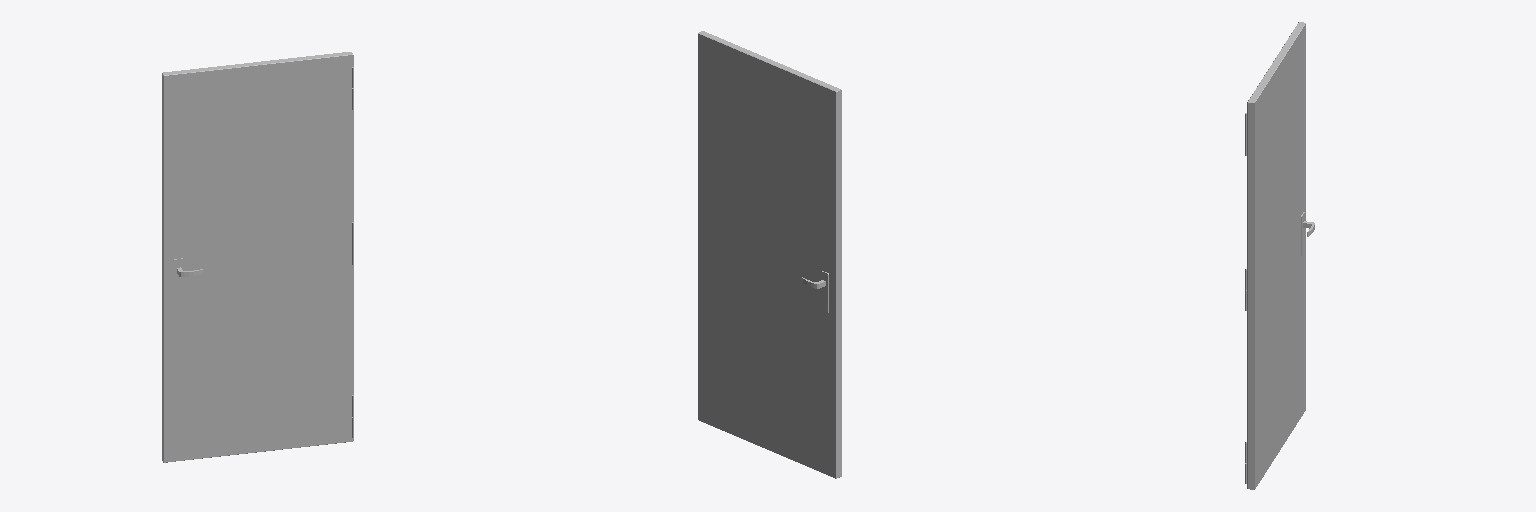
The model's file is door.obj.
3 renders of one model, left to right at view 1: azimuth 30°, elevation 25°; view 2: azimuth 150°, elevation 25°; view 3: azimuth 270°, elevation 25°, orthographic.
Visible parts, largest first — view 1: door_Hinged; view 2: door_Hinged; view 3: door_Hinged.
Boxes of the visible parts, <box> form: door_Hinged: <box>162,52,353,462</box>; door_Hinged: <box>698,31,841,478</box>; door_Hinged: <box>1245,22,1314,489</box>.
Bounding box in the file's own units: 0.9319 × 2.08 × 0.3386.